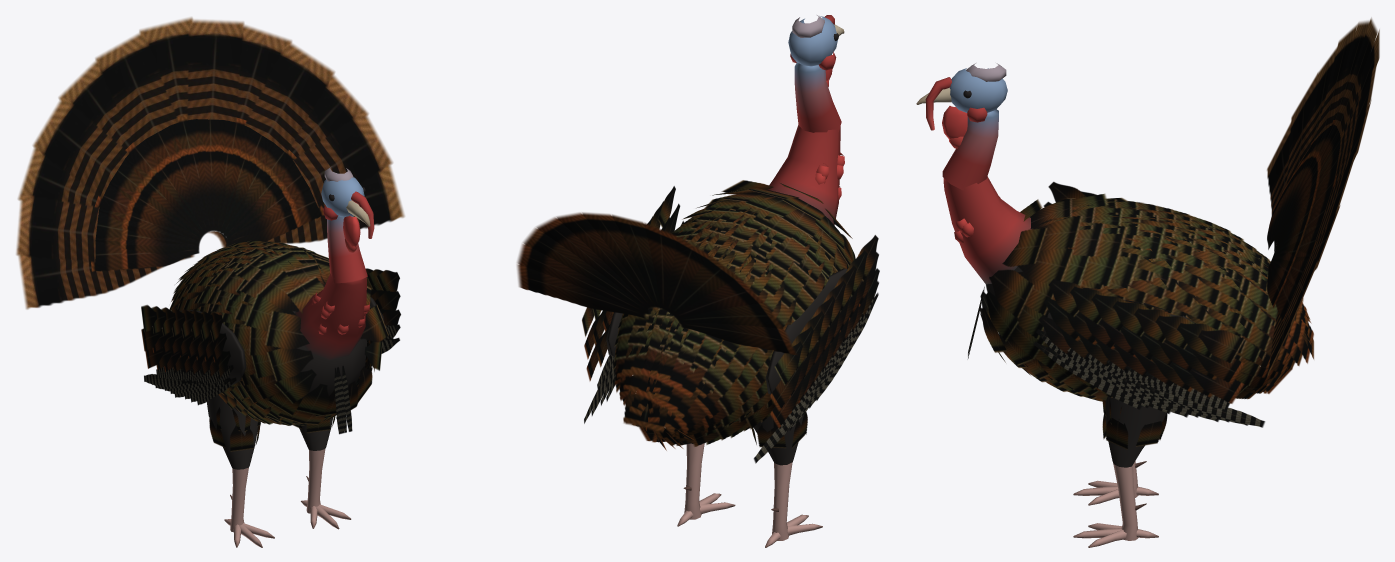
Rendered from turkey.glb.
3 renders of one model, left to right at view 1: azimuth 30°, elevation 25°; view 2: azimuth 150°, elevation 25°; view 3: azimuth 270°, elevation 25°, orthographic. The views are drawn at different scales.
Parts seen in each view (by area): view 1: tail, body, wingR, tf7, tf9, tf5, tf3, tf1, tf11, tf0, neck1, tf6 (+15 smaller); view 2: body, tail, wingR, neck1, wingL, neck2, head, thighR, shinR, shinL, footL; view 3: body, wingL, tail, neck1, thighL, neck2, head, tf1, tf3, tf5, shinL, tf0 (+10 smaller).
Boxes of the visible parts, x1=… form: tail: x1=91, y1=114, x2=323, y2=271; body: x1=169, y1=240, x2=388, y2=434; wingR: x1=141, y1=305, x2=246, y2=405; tf7: x1=187, y1=19, x2=244, y2=232; tf9: x1=212, y1=41, x2=334, y2=236; tf5: x1=95, y1=31, x2=178, y2=146; tf3: x1=33, y1=96, x2=128, y2=198; tf1: x1=16, y1=194, x2=99, y2=262; tf11: x1=218, y1=110, x2=392, y2=244; tf0: x1=18, y1=254, x2=194, y2=309; neck1: x1=295, y1=273, x2=369, y2=360; tf6: x1=139, y1=17, x2=192, y2=116; body: x1=613, y1=180, x2=855, y2=450; tail: x1=517, y1=212, x2=797, y2=354; wingR: x1=753, y1=235, x2=879, y2=463; neck1: x1=767, y1=125, x2=844, y2=225; wingL: x1=582, y1=186, x2=684, y2=423; neck2: x1=794, y1=62, x2=841, y2=132; head: x1=788, y1=15, x2=838, y2=70; thighR: x1=752, y1=412, x2=807, y2=465; shinR: x1=771, y1=462, x2=792, y2=540; shinL: x1=683, y1=443, x2=704, y2=519; footL: x1=677, y1=493, x2=735, y2=526; body: x1=968, y1=193, x2=1313, y2=402; wingL: x1=1033, y1=279, x2=1264, y2=427; tail: x1=1267, y1=119, x2=1343, y2=321; neck1: x1=943, y1=176, x2=1031, y2=284; thighL: x1=1102, y1=396, x2=1167, y2=467; neck2: x1=942, y1=109, x2=998, y2=190; head: x1=949, y1=63, x2=1007, y2=122; tf1: x1=1286, y1=73, x2=1317, y2=184; tf3: x1=1314, y1=24, x2=1357, y2=140; tf5: x1=1334, y1=17, x2=1377, y2=136; shinL: x1=1113, y1=463, x2=1146, y2=540; tf0: x1=1267, y1=122, x2=1291, y2=215.
Bounding box in the file's own units: 0.9518 × 0.9991 × 0.8795.
Materials: 6 (1 with a texture image).
